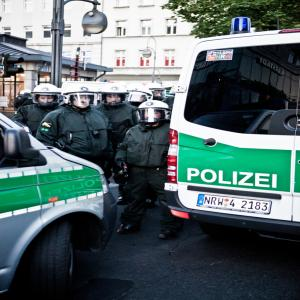Vehicle-registration-plate: (221, 201, 283, 218)
